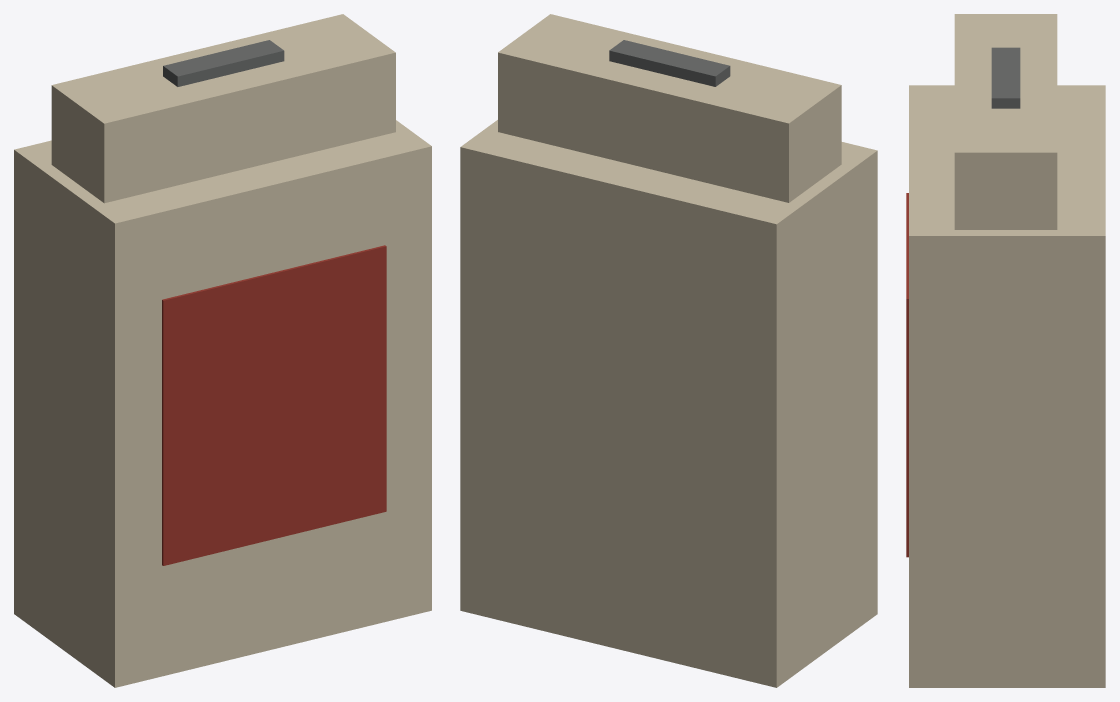
File: coffee-bag.glb
The picture shows the model from 3 angles, left to right: view 1: azimuth 30°, elevation 25°; view 2: azimuth 150°, elevation 25°; view 3: azimuth 270°, elevation 25°; orthographic projection. The views are drawn at different scales.
Parts seen in each view (by area): view 1: paper, accent-warm, metal; view 2: paper, metal; view 3: paper, metal, accent-warm.
Boxes of the visible parts, <box> form: paper: <box>14,14,431,687</box>; accent-warm: <box>162,245,386,565</box>; metal: <box>163,40,284,86</box>; paper: <box>460,14,877,687</box>; metal: <box>609,40,730,86</box>; paper: <box>909,14,1105,687</box>; metal: <box>991,47,1020,108</box>; accent-warm: <box>906,193,908,557</box>.
Size of the model in its own units: 0.125 by 0.209 by 0.07.
